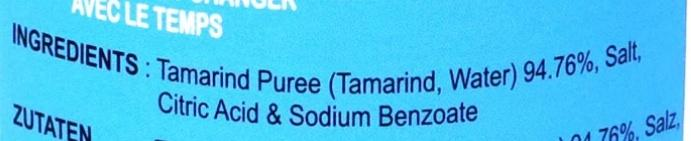ingredients: (9, 12, 687, 124)
